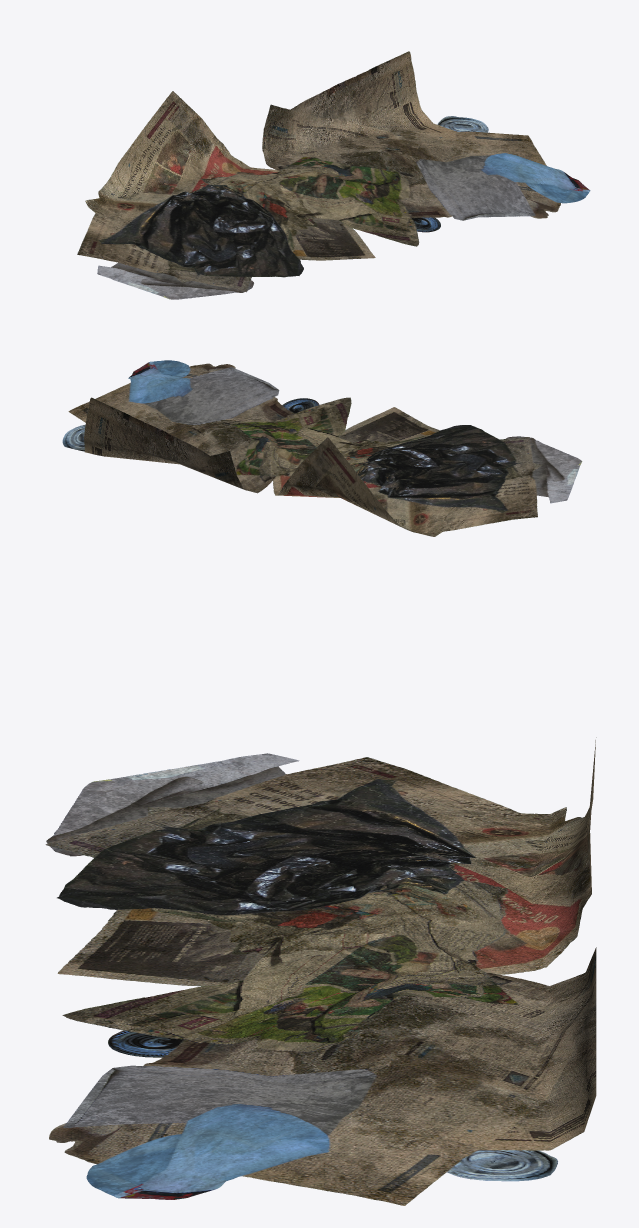
The model's file is 3D_Decal_13.fbx.
The picture shows the model from 3 angles, top to bottom: view 1: azimuth 30°, elevation 25°; view 2: azimuth 150°, elevation 25°; view 3: azimuth 270°, elevation 25°; orthographic projection. The views are drawn at different scales.
Parts seen in each view (by area): view 1: THREED_Decal; view 2: THREED_Decal; view 3: THREED_Decal.
Boxes of the visible parts, x1,y1,x2,y2 form: THREED_Decal: (77,51,590,299); THREED_Decal: (62,360,582,536); THREED_Decal: (45,737,596,1205).
Size of the model in its own units: 2.42 by 0.4172 by 1.23.
